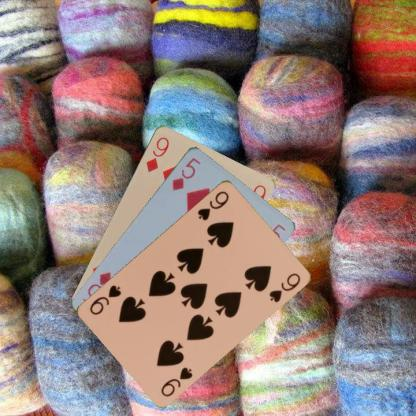5d: (170, 154, 202, 192)
9d: (143, 134, 170, 174)
9s: (194, 188, 230, 222), (158, 364, 194, 398)
